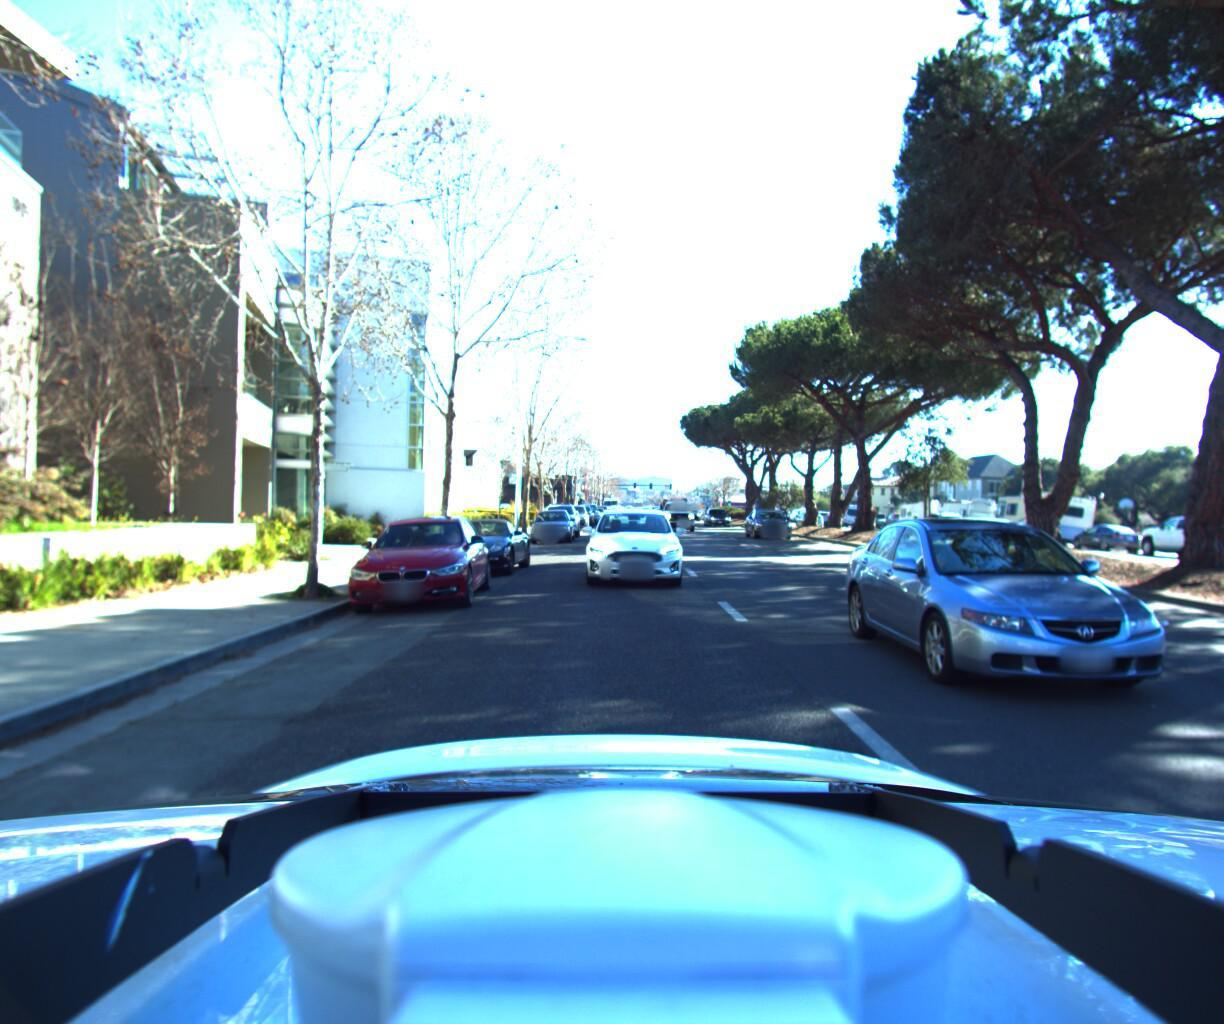car: (855, 503, 1224, 749), (321, 501, 509, 623), (572, 503, 680, 593), (425, 509, 537, 576), (1131, 506, 1224, 564), (1067, 518, 1150, 552), (526, 502, 578, 542), (537, 496, 584, 536), (743, 506, 796, 540), (903, 507, 958, 537), (659, 491, 698, 529), (573, 498, 603, 522), (703, 508, 735, 529)
other_vehicle: (990, 485, 1101, 545), (931, 490, 1012, 535), (897, 491, 966, 534)
